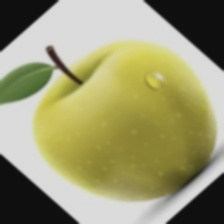apple: (38, 62, 199, 201)
